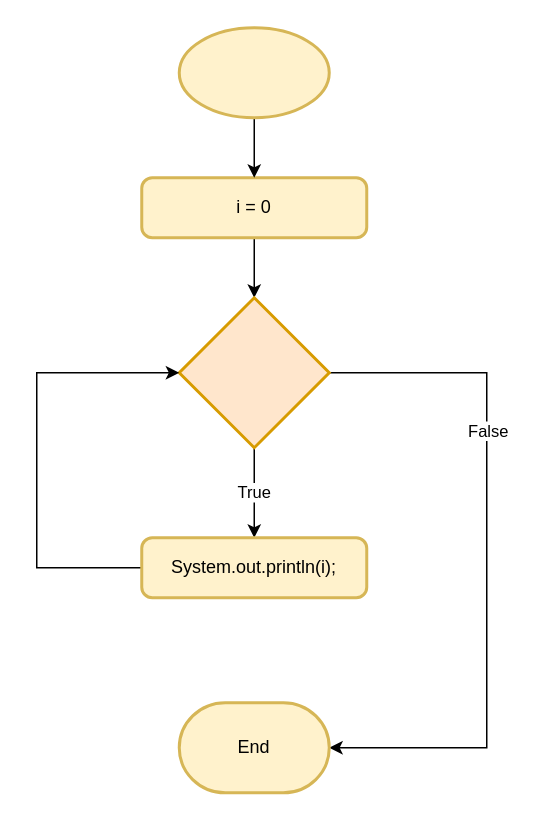
Image size: 534x819. Some labels were removed from this diagram. The box of each missing label's shape, as (x1, y1, x2, y2) in pixels:
i < 10: (177, 296, 330, 448)
Start: (177, 26, 330, 118)
